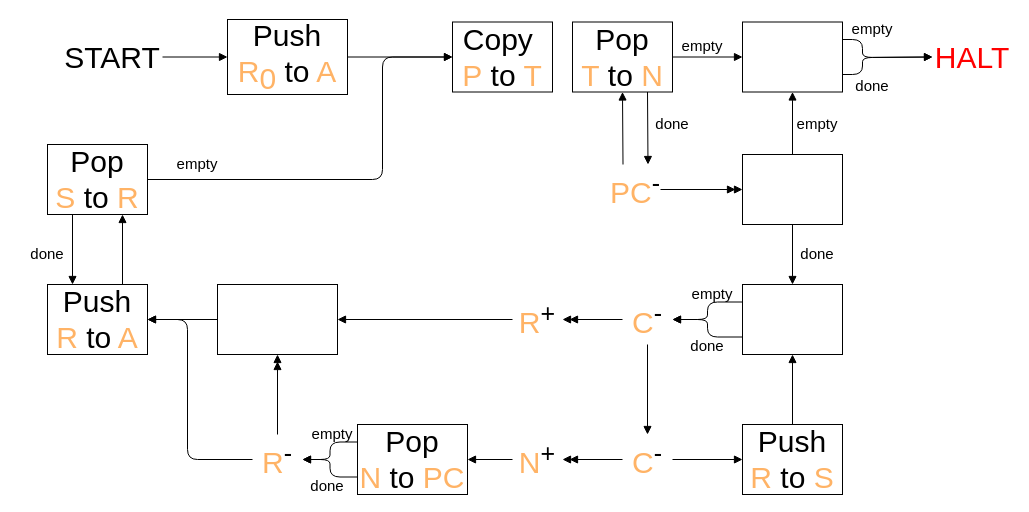
Some shapes in this 1029 by 512 pixel diagram are drawn without their labels. The centre of each missing label's shape, as x and y in pixels:
Copy N to PC: (277,319)
Pop A to R: (792,319)
Pop A to R 0: (792,56)
Pop N to C: (792,189)
